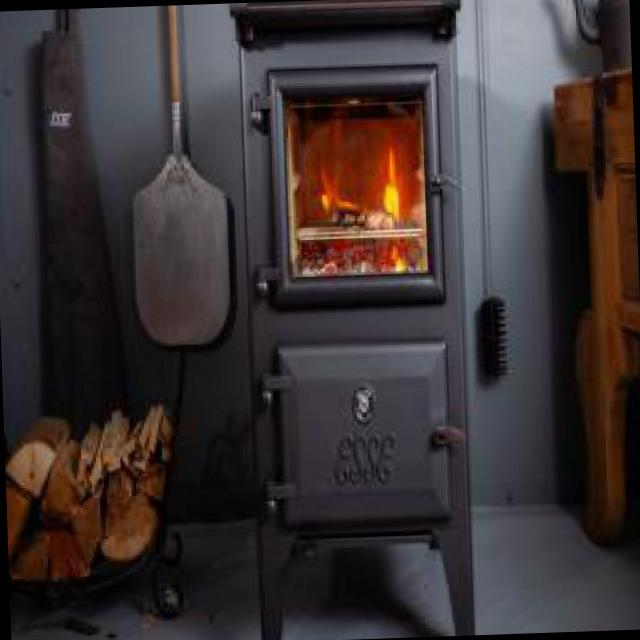fire: (310, 136, 412, 262)
